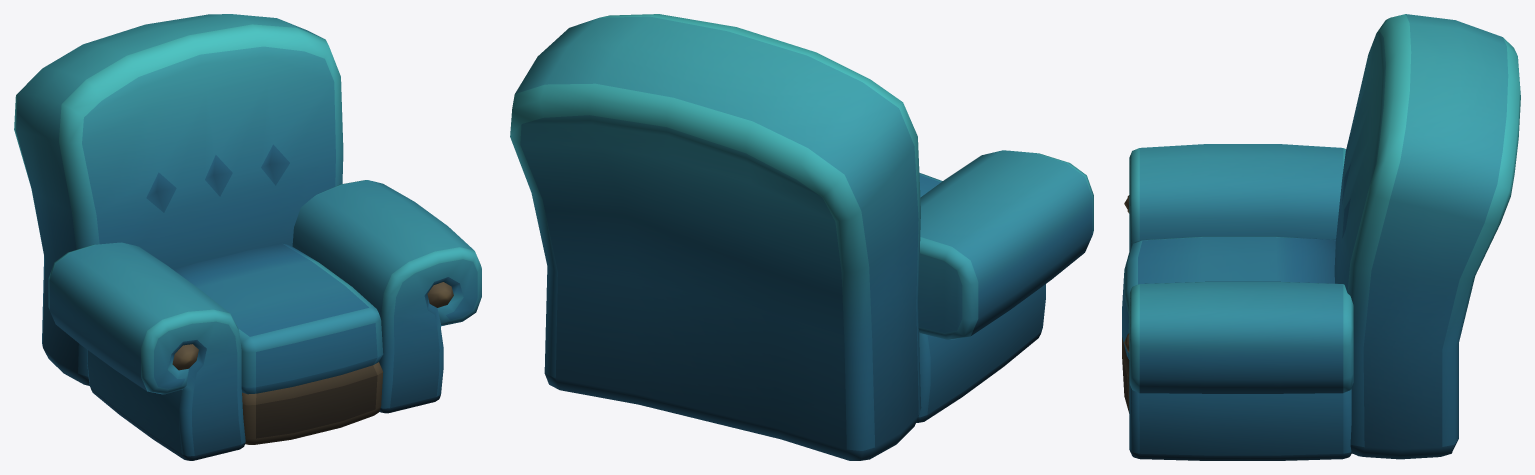
Rendered from sofa1_1_LOD_setup.fbx.
3 renders of one model, left to right at view 1: azimuth 30°, elevation 25°; view 2: azimuth 150°, elevation 25°; view 3: azimuth 270°, elevation 25°, orthographic. The views are drawn at different scales.
Parts seen in each view (by area): view 1: sofa1_1_LOD0; view 2: sofa1_1_LOD0; view 3: sofa1_1_LOD0.
Part boxes in pixels (x1,y1,x2,y2): sofa1_1_LOD0: (14, 14, 481, 460); sofa1_1_LOD0: (510, 14, 1093, 460); sofa1_1_LOD0: (1122, 14, 1520, 460).
Size of what is drawn, in the model's own units: 123 by 106 by 111.
